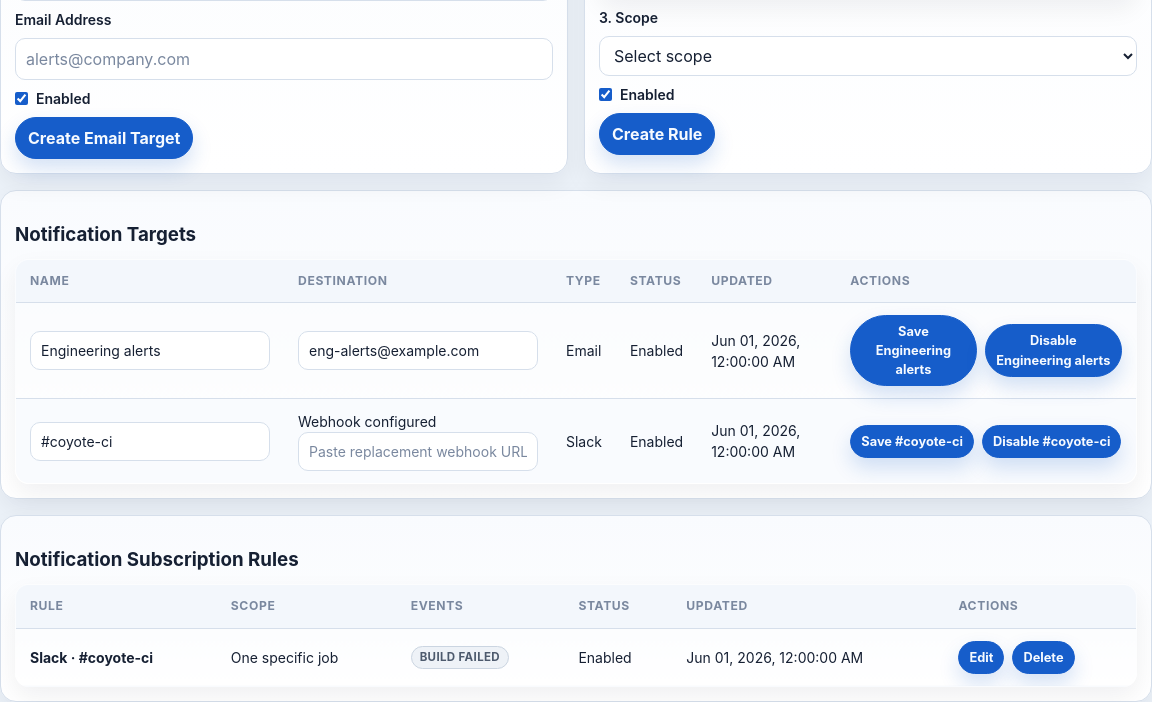
Scenario: NotificationsPage › keeps project unset when editing a job rule whose job is missing
(page scrolled)
Expected: the text "Slack · #coyote-ci" is shown, [30, 649, 153, 666]
Click the button "Edit": click(981, 657) [958, 641, 1004, 674]
(page scrolled)
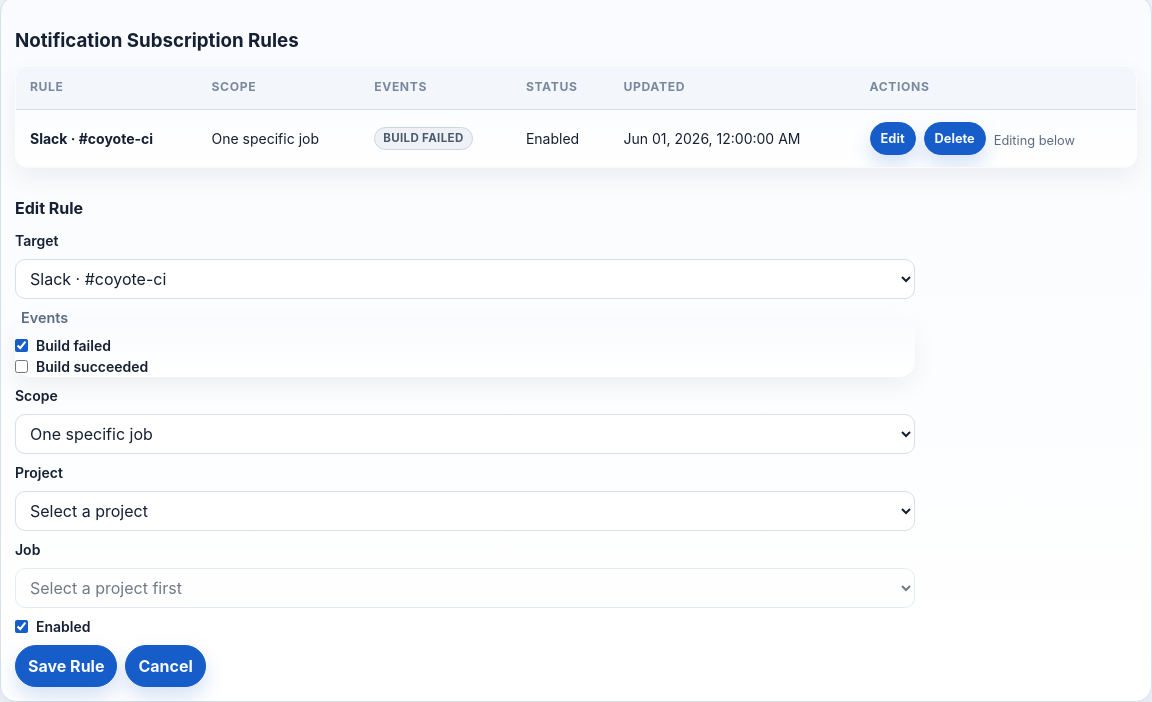
Result: the dropdown labelled "Project" shows "Select a project" at [15, 490, 915, 530]
